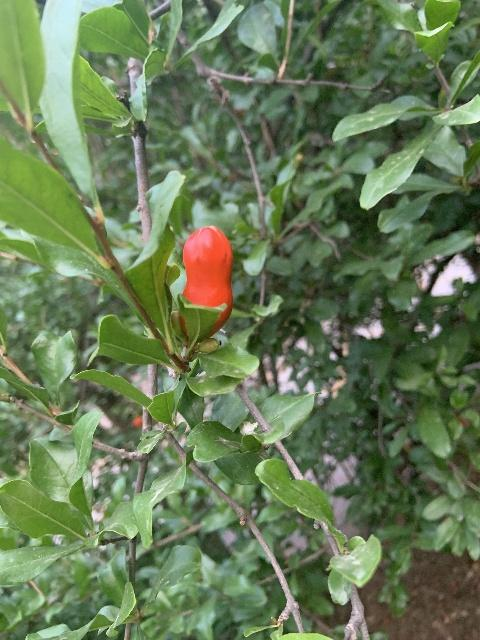bud: (181, 225, 233, 336), (198, 338, 219, 353)
